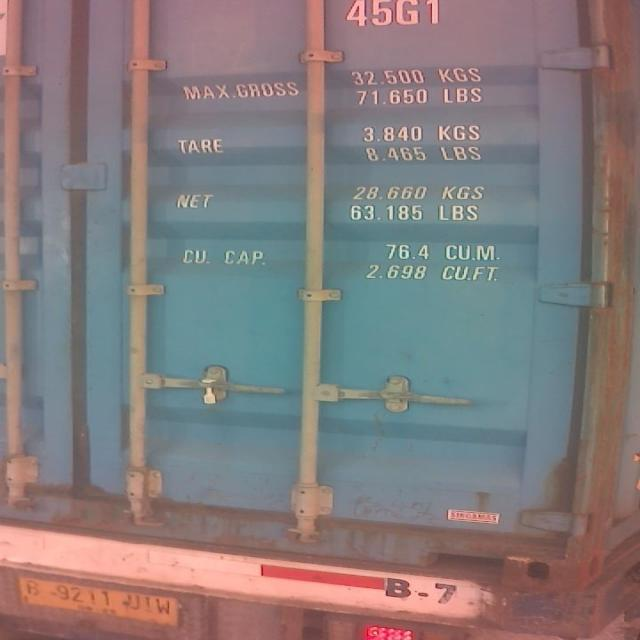seal: (196, 373, 228, 405)
